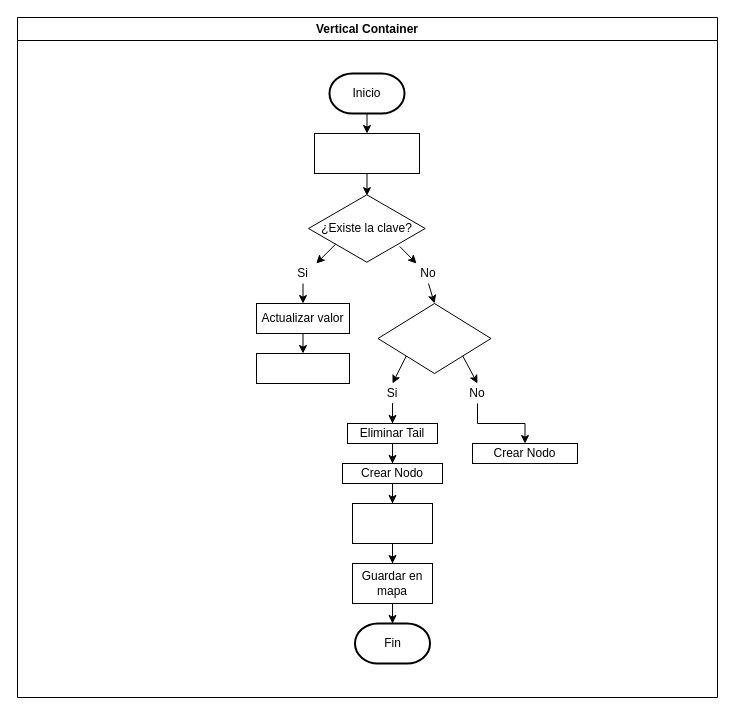
The diagram is 735 pixels wide and 715 high, and some of its shapes have lost their labels. Here are the shapes that lost their labels. From the top down, the centre of each, then its label:
pixel 367 153: Put (clave, valor)
pixel 434 338: ¿Cache lleno?
pixel 303 368: Mover al frente
pixel 392 523: Agregar al Frente
